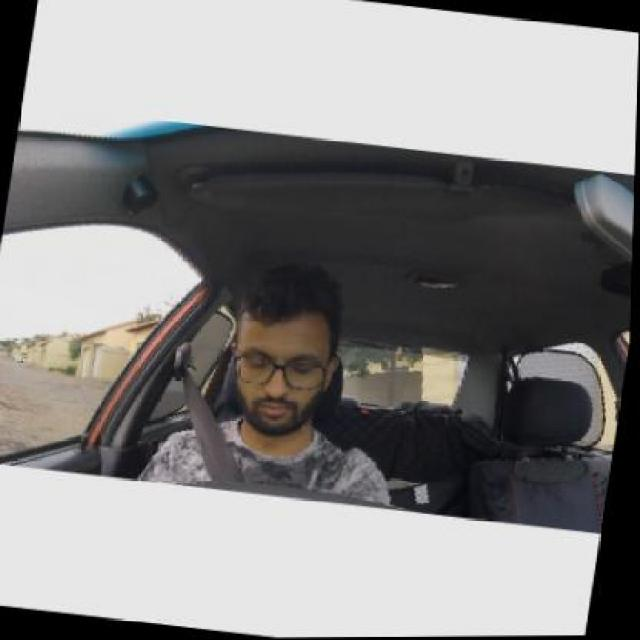drowsy: (227, 264, 344, 442)
